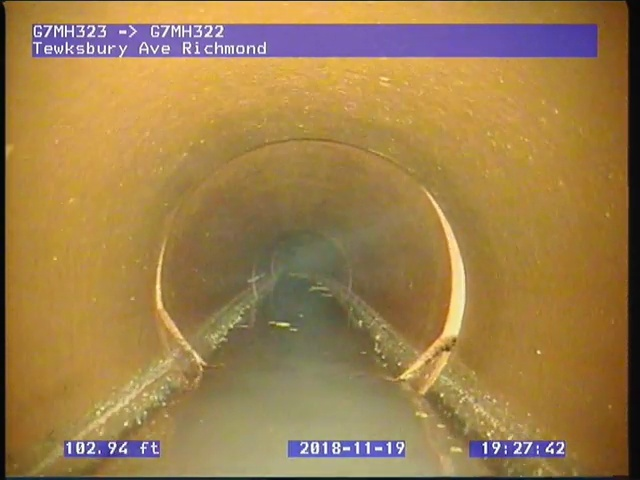crack: (394, 335, 460, 382), (194, 353, 230, 379)
